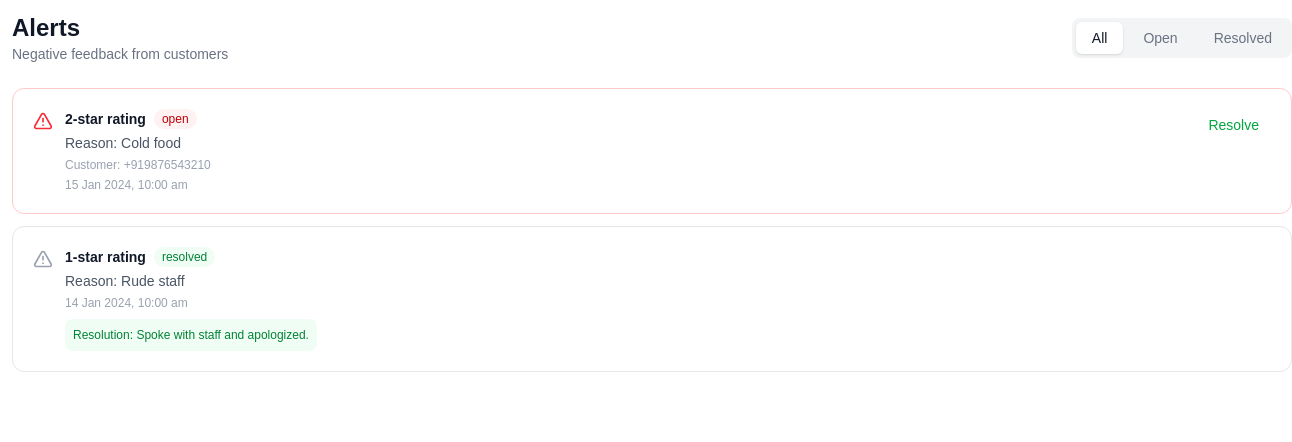
Test: AlertsPage › shows resolve form with note textarea
This screenshot has width=1292, height=442.
Expected: the text "2-star rating" is shown, [65, 109, 146, 129]
Click the button "Resolve".
click(1234, 125)  # box [1196, 109, 1271, 141]
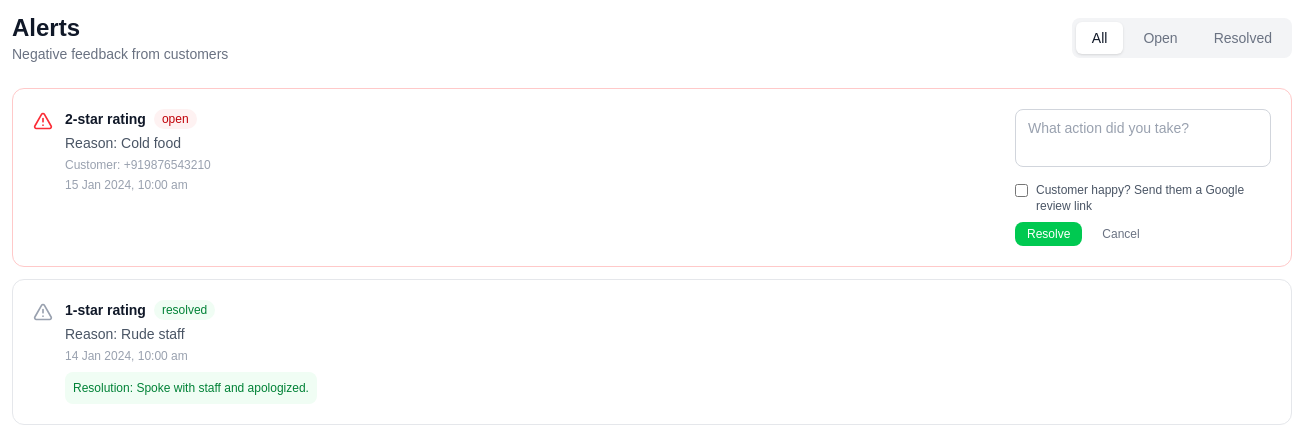
Now the text box with placeholder "What action did you take?" is shown, box [1015, 109, 1271, 167]
